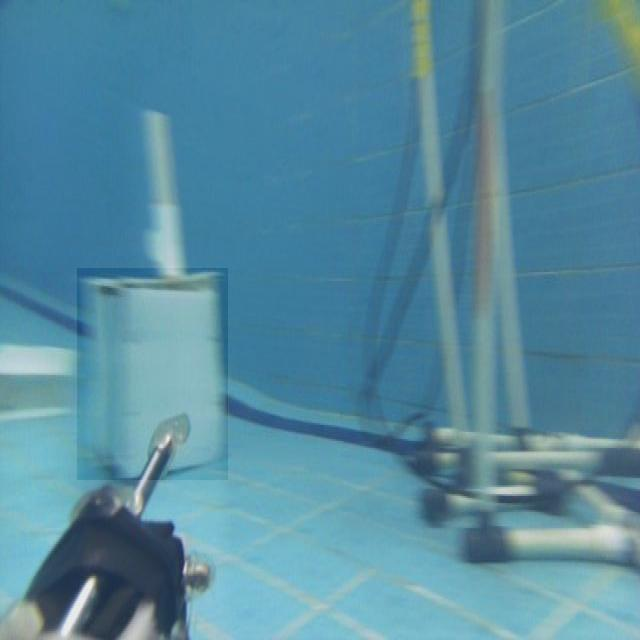Cube: (77, 268, 228, 480)
